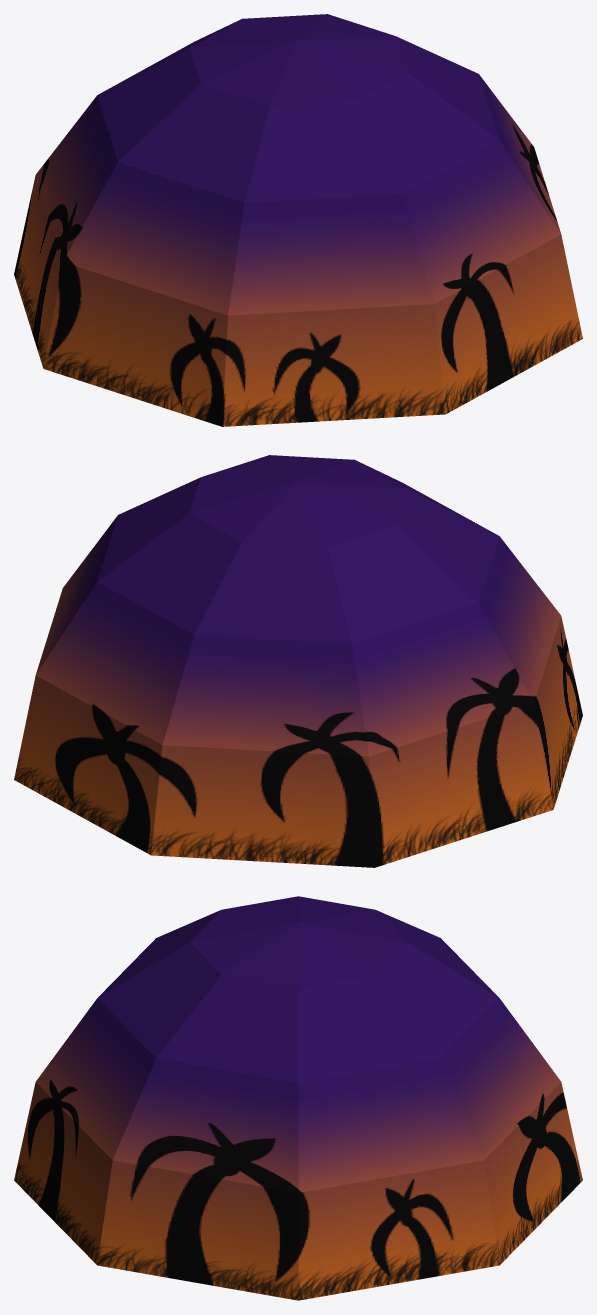
Rendered from Skydome.fbx.
3 views of the same model, one above another, from view 1: azimuth 30°, elevation 25°; view 2: azimuth 150°, elevation 25°; view 3: azimuth 270°, elevation 25° (orthographic). The views are drawn at different scales.
Visible parts, largest first — view 1: pSphere1; view 2: pSphere1; view 3: pSphere1.
Boxes of the visible parts, x1,y1,x2,y2 form: pSphere1: [14, 14, 582, 426]; pSphere1: [14, 455, 582, 867]; pSphere1: [14, 896, 582, 1300].
Size of the model in its own units: 19.34 by 9.67 by 19.34.
1 material, 1 textured.
